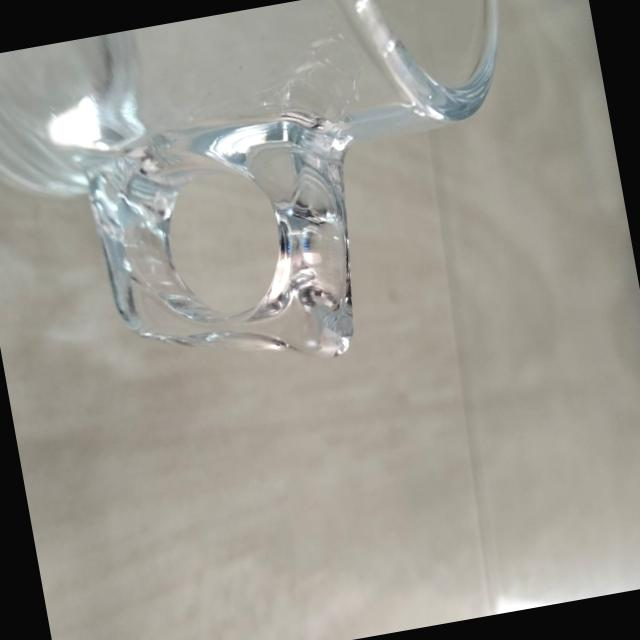glass-VX4N: (0, 0, 572, 414)
